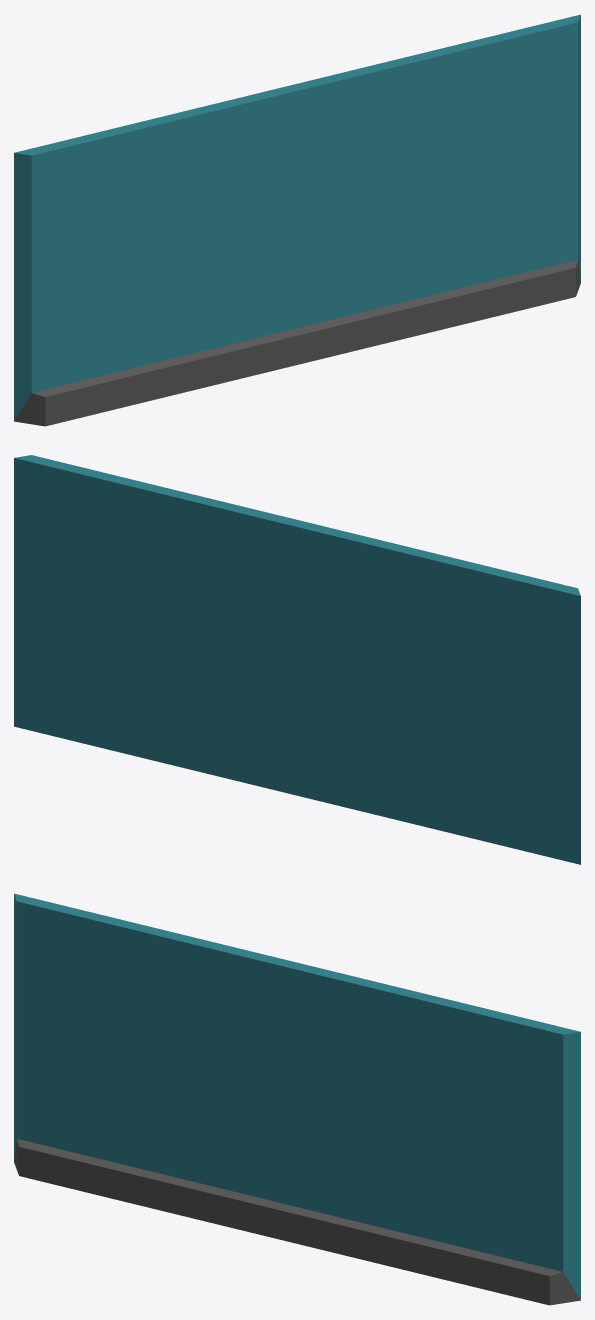
The model's file is parede_2_teste_1.fbx.
The picture shows the model from 3 angles, top to bottom: view 1: azimuth 30°, elevation 25°; view 2: azimuth 150°, elevation 25°; view 3: azimuth 330°, elevation 25°; orthographic projection.
Visible parts, largest first — view 1: Paredes Cozinha.002; view 2: Paredes Cozinha.002; view 3: Paredes Cozinha.002.
Part boxes in pixels (left/top/right/bottom): Paredes Cozinha.002: left=14, top=14, right=580, bottom=426; Paredes Cozinha.002: left=14, top=455, right=580, bottom=864; Paredes Cozinha.002: left=14, top=893, right=580, bottom=1305.
Bounding box in the file's own units: 1408 × 638 × 56.54.
